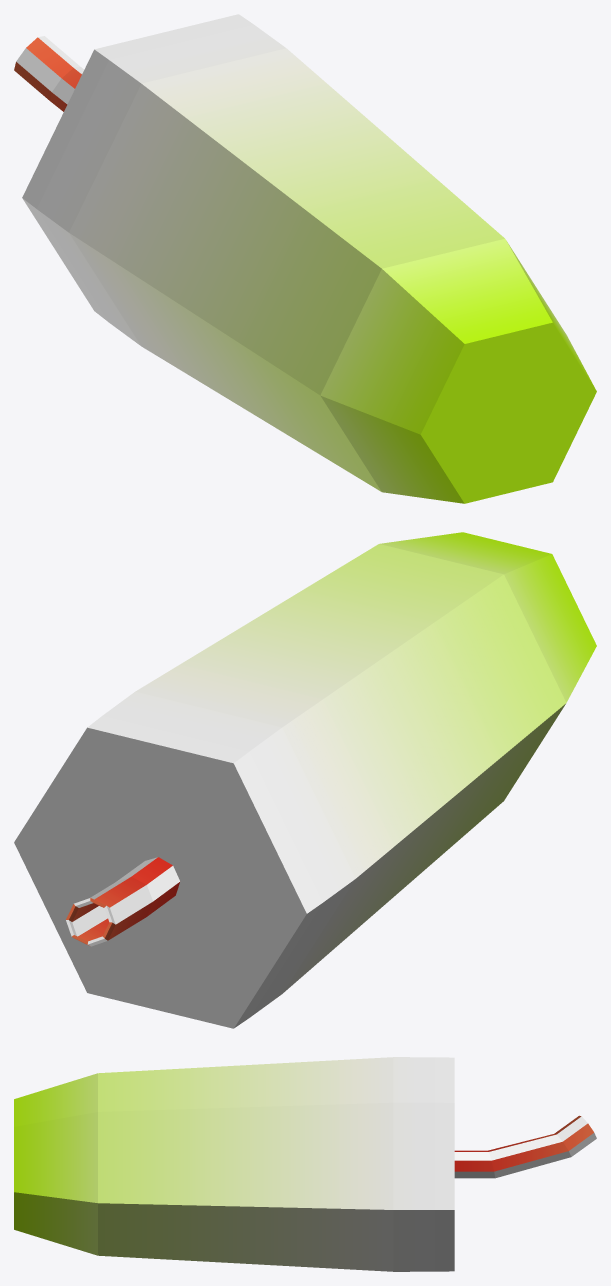
File: StyrofoamCup.fbx
3 renders of one model, top to bottom at view 1: azimuth 30°, elevation 25°; view 2: azimuth 150°, elevation 25°; view 3: azimuth 270°, elevation 25°, orthographic. The views are drawn at different scales.
Visible parts, largest first — view 1: LowPolyHumanBase.009; view 2: LowPolyHumanBase.009; view 3: LowPolyHumanBase.009.
Boxes of the visible parts, bbox=[...] form: LowPolyHumanBase.009: bbox=[14, 14, 596, 503]; LowPolyHumanBase.009: bbox=[14, 532, 596, 1028]; LowPolyHumanBase.009: bbox=[14, 1057, 596, 1271].
Bounding box in the file's own units: 28.37 × 24.57 × 76.75.
